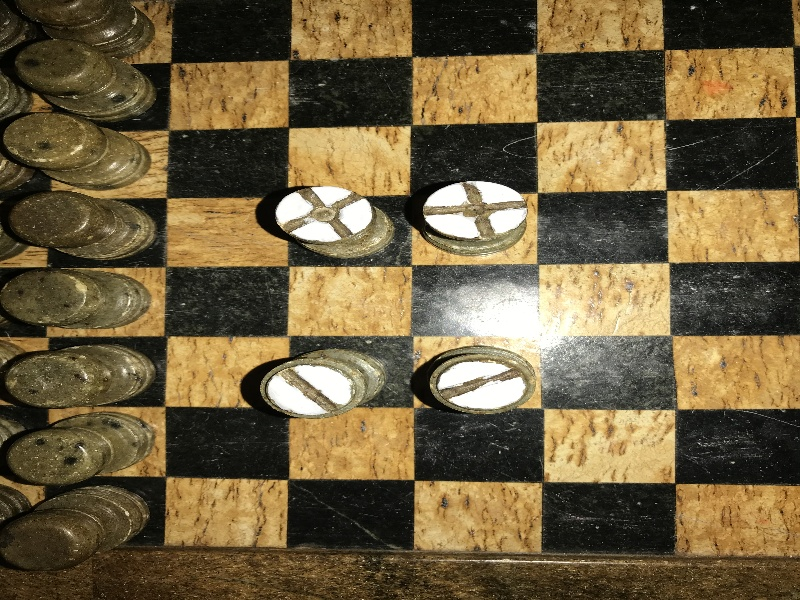WhiteBishop: (276, 185, 392, 260), (421, 181, 527, 255)
WhiteRook: (261, 348, 386, 418), (429, 344, 536, 414)
